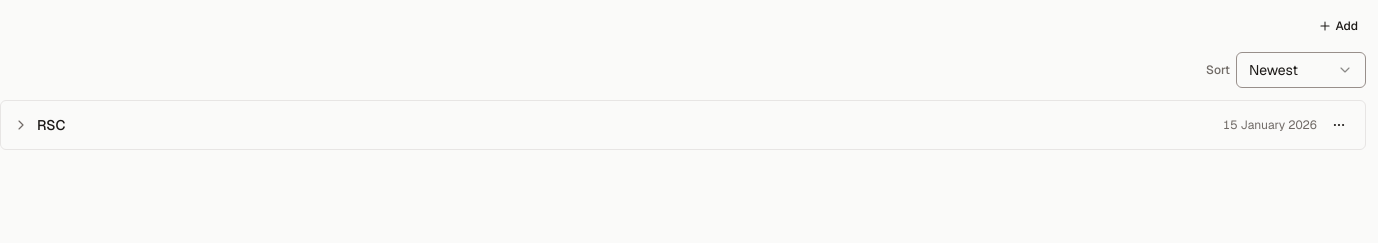
it: the "row" position -- read-only values on the collapsed row › does not repeat a date in the opened row that the row already shows in full
Click the text "RSC".
click(51, 125)  # box [37,115,66,135]
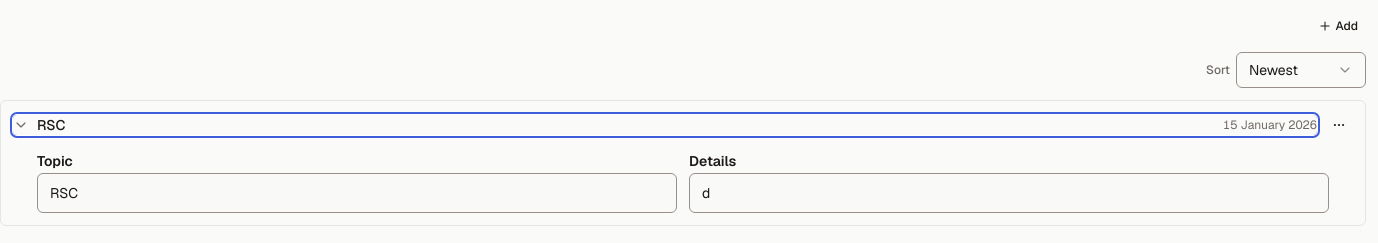
expect the text "15 January 2026" is shown once: met, box [1223,117,1317,133]
expect the field showing "d" below "Details" is shown: met, box [689,173,1329,213]
